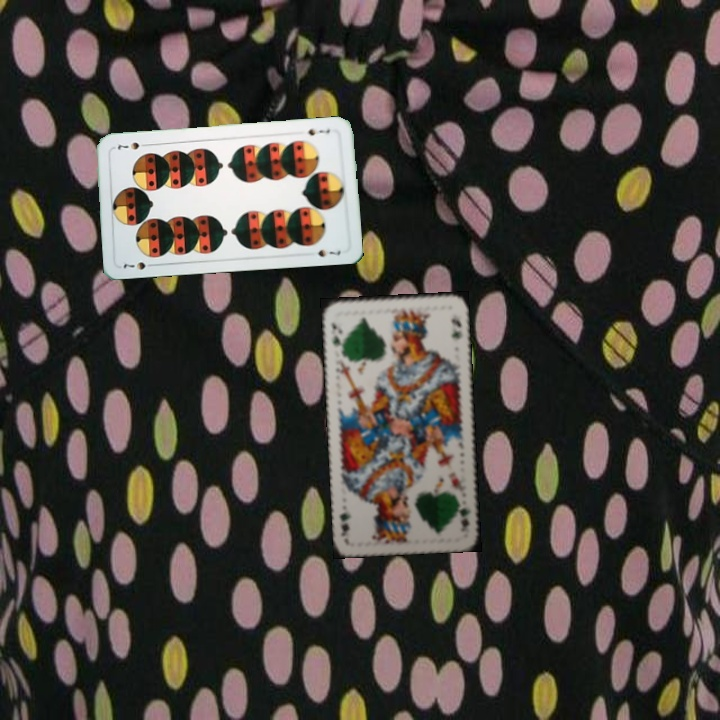GK: (454, 495, 472, 535), (328, 318, 346, 353)
S7: (119, 258, 158, 272), (304, 125, 332, 138)
